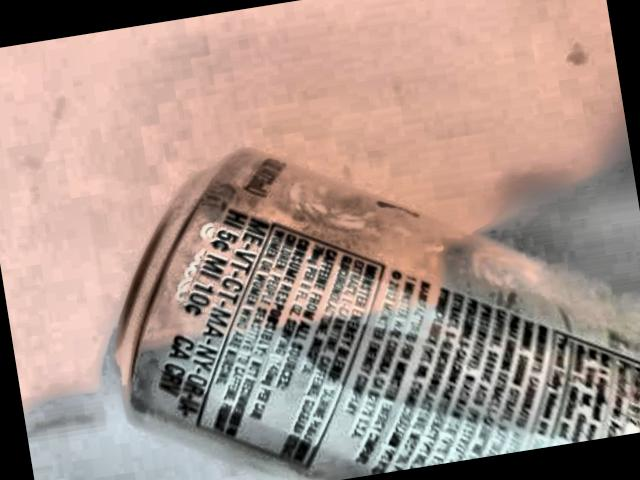Bottles: (44, 81, 640, 480)
